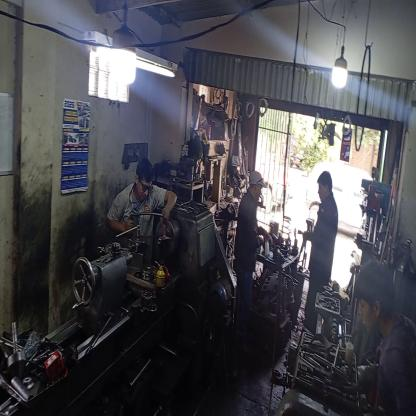lentes: (136, 174, 155, 196)
